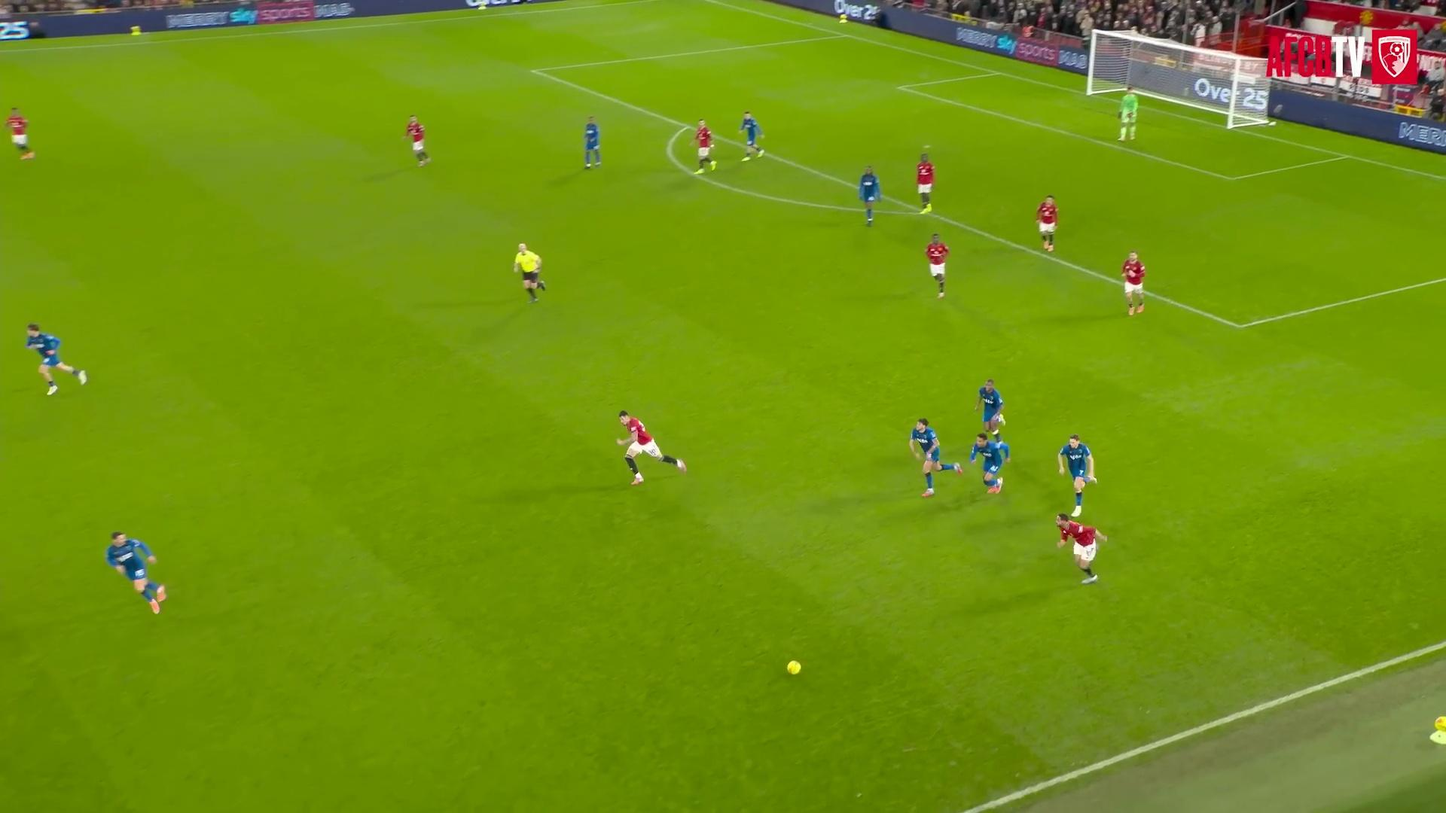football: (782, 654, 815, 688)
player: (617, 410, 686, 485), (106, 531, 166, 613), (26, 323, 87, 394), (909, 419, 961, 497), (1056, 513, 1107, 583), (1058, 434, 1097, 516), (969, 432, 1009, 493), (974, 379, 1005, 440), (1121, 251, 1146, 315), (926, 234, 949, 297), (6, 108, 34, 159), (859, 166, 881, 225), (694, 119, 716, 173), (1036, 195, 1057, 251), (406, 115, 429, 166), (740, 111, 763, 160), (1118, 86, 1138, 140), (916, 154, 934, 213), (584, 116, 599, 168)
referee: (514, 244, 545, 303)
